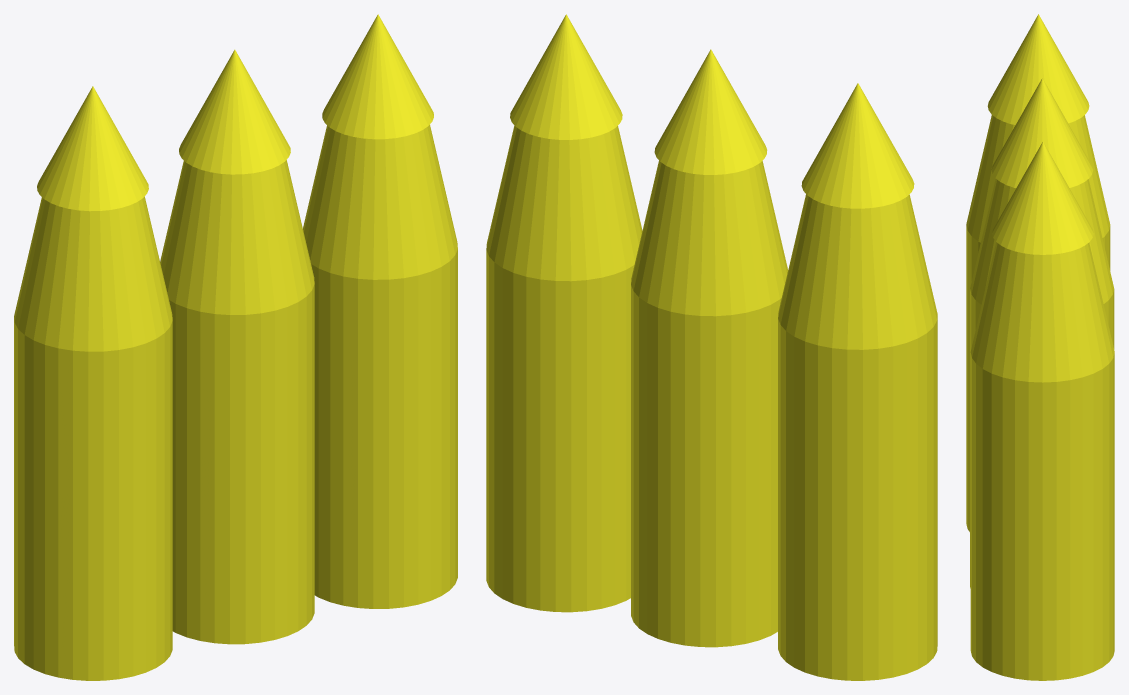
File: bullets.fbx
3 views of the same model, side by side, from view 1: azimuth 30°, elevation 25°; view 2: azimuth 150°, elevation 25°; view 3: azimuth 270°, elevation 25° (orthographic). The views are drawn at different scales.
Parts seen in each view (by area): view 1: Cylinder; view 2: Cylinder; view 3: Cylinder.
Boxes of the visible parts, left/top/right/bottom form: Cylinder: left=14, top=14, right=457, bottom=680; Cylinder: left=486, top=14, right=937, bottom=680; Cylinder: left=966, top=14, right=1114, bottom=680.
Size of the model in its own units: 49.7 by 62.72 by 16.59.
